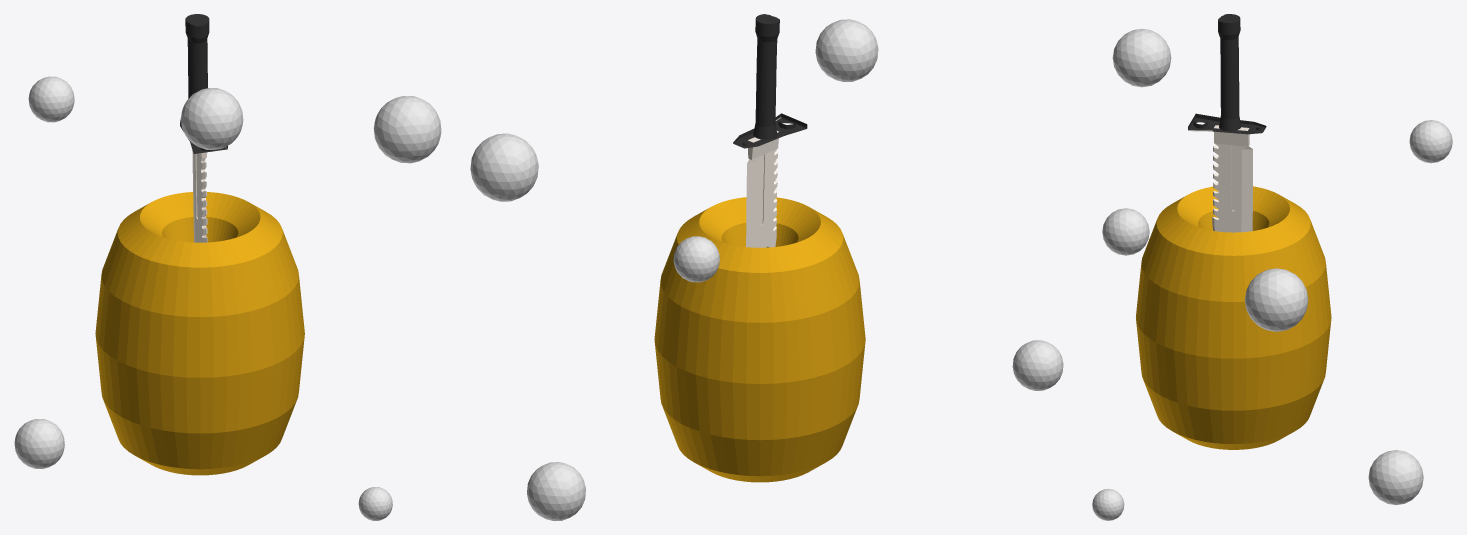
File: bedazzled2.glb
3 renders of one model, left to right at view 1: azimuth 30°, elevation 25°; view 2: azimuth 150°, elevation 25°; view 3: azimuth 270°, elevation 25°, orthographic. The views are drawn at different scales.
Visible parts, largest first — view 1: Torus.002, Icosphere.002, Cylinder, Icosphere.004, Icosphere, Icosphere.001, Icosphere.003; view 2: Torus.002, Cylinder, Icosphere.002, Icosphere.004, Icosphere.005, Icosphere, Icosphere.001; view 3: Torus.002, Cylinder, Icosphere.002, Icosphere.004, Icosphere.005, Icosphere, Icosphere.001, Icosphere.003.
Boxes of the visible parts, x1,y1,x2,y2 form: Torus.002: [95, 192, 304, 475]; Icosphere.002: [373, 96, 441, 163]; Cylinder: [180, 14, 227, 242]; Icosphere.004: [181, 88, 243, 149]; Icosphere: [14, 419, 64, 468]; Icosphere.001: [28, 76, 74, 122]; Icosphere.003: [358, 487, 392, 520]; Torus.002: [654, 197, 865, 482]; Cylinder: [733, 14, 807, 247]; Icosphere.002: [470, 133, 538, 201]; Icosphere.004: [815, 19, 878, 81]; Icosphere.005: [527, 462, 585, 520]; Icosphere: [1012, 340, 1063, 390]; Icosphere.001: [673, 236, 719, 282]; Torus.002: [1136, 186, 1331, 449]; Cylinder: [1188, 14, 1266, 232]; Icosphere.002: [1245, 268, 1308, 331]; Icosphere.004: [1112, 28, 1171, 87]; Icosphere.005: [1368, 450, 1423, 505]; Icosphere: [1102, 208, 1149, 255]; Icosphere.001: [1409, 120, 1452, 163]; Icosphere.003: [1092, 489, 1124, 520].
Size of the model in its own units: 3.25 by 2.99 by 2.17.
